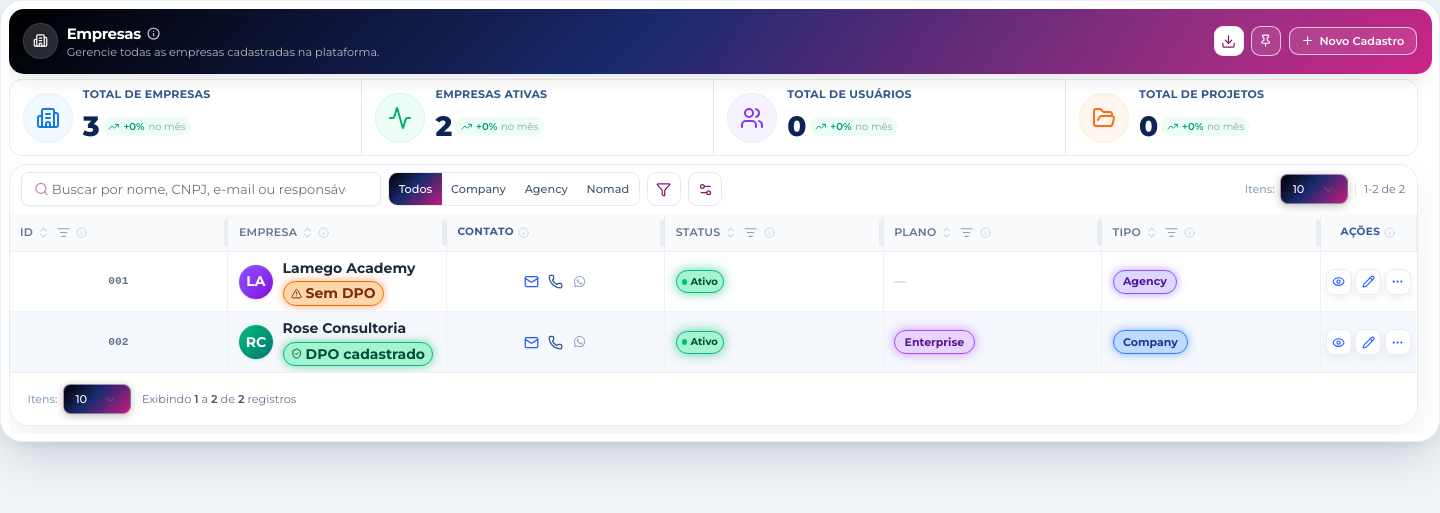
Test: admin/empresas — ID normalizado e filtros de coluna › escolher Inativo supera o filtro inicial Ativos e mantém todos os status disponíveis
Expected: the text "001" is shown, [108,275,129,287]
Click the button named "Opções da coluna Status". click: click(750, 232)
box: [741,223,760,242]
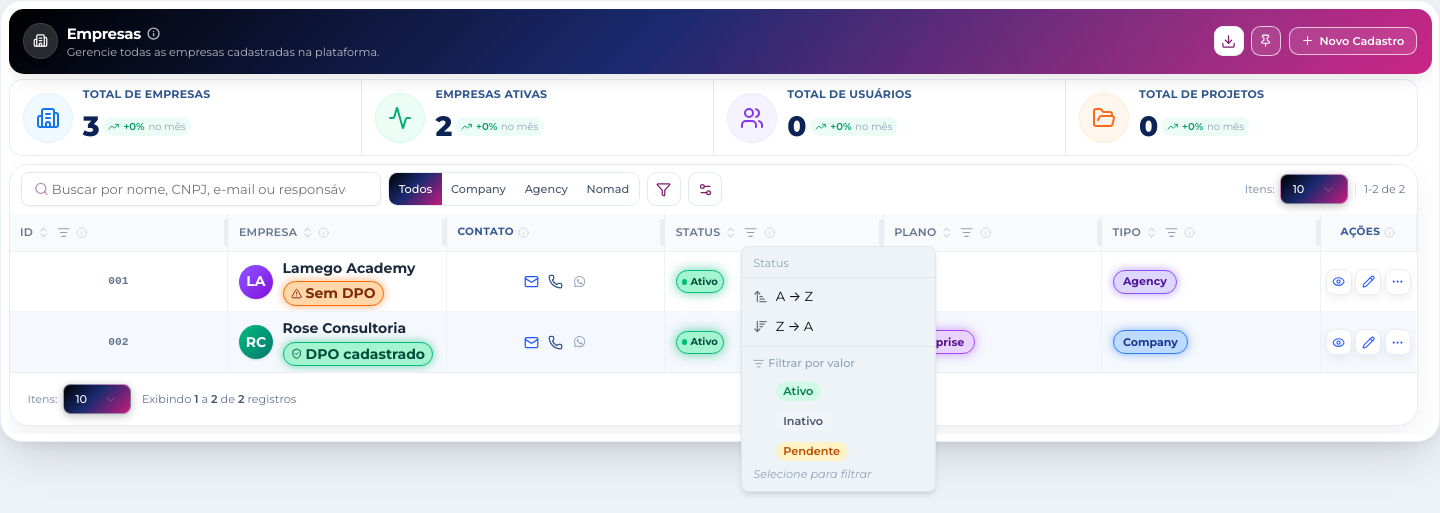
Click the menu item "Inativo". click: click(803, 422)
box: [776,412,831,431]
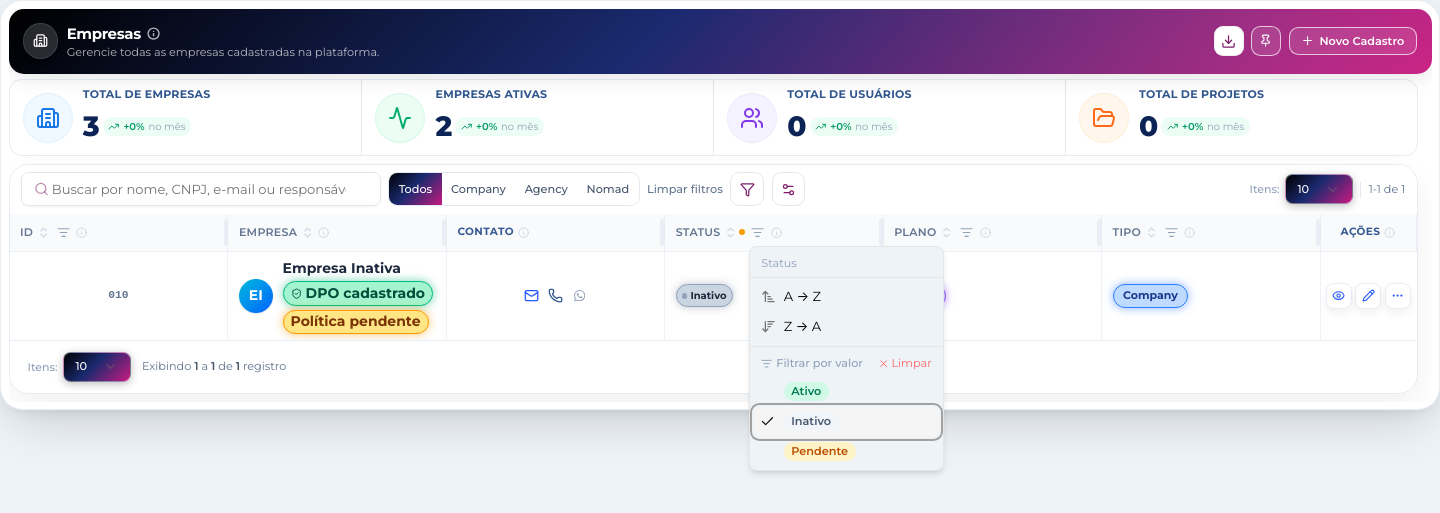
Expected: the menu item "Ativo" is shown, [784,382,829,401]
Expected: the menu item "Pendente" is shown, [784,442,856,461]
Expected: the row that starts with "Empresa Inativa" is shown, [283,259,401,277]
